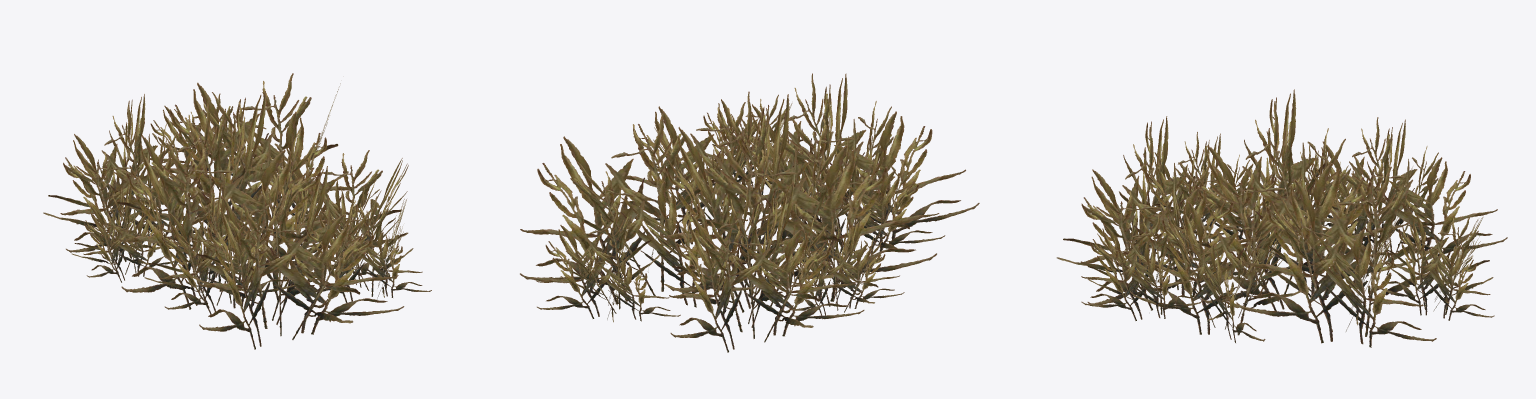
Rendered from oas_tarim_dvweed_01.glb.
3 views of the same model, side by side, from view 1: azimuth 30°, elevation 25°; view 2: azimuth 150°, elevation 25°; view 3: azimuth 270°, elevation 25° (orthographic). The views are drawn at different scales.
Parts seen in each view (by area): view 1: Oas_tarim_DvWeed_01; view 2: Oas_tarim_DvWeed_01; view 3: Oas_tarim_DvWeed_01.
Part boxes in pixels (x1,y1,x2,y2): Oas_tarim_DvWeed_01: (43, 73, 431, 349); Oas_tarim_DvWeed_01: (520, 73, 979, 352); Oas_tarim_DvWeed_01: (1056, 89, 1507, 347).
Bounding box in the file's own units: 8.58 × 4.8 × 9.91.
Materials: 1 (1 with a texture image).
